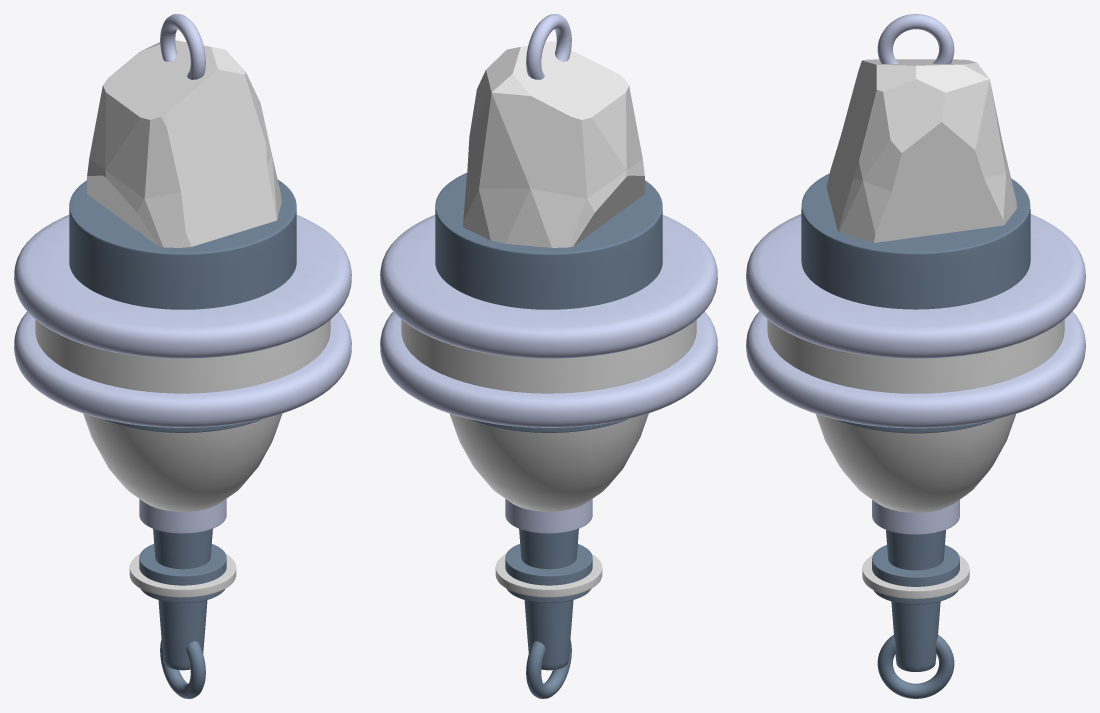
The model's file is Float.fbx.
3 views of the same model, side by side, from view 1: azimuth 30°, elevation 25°; view 2: azimuth 150°, elevation 25°; view 3: azimuth 270°, elevation 25° (orthographic).
Parts seen in each view (by area): view 1: Icosphere, Cylinder.003, Cylinder.006, Cylinder.004, Sphere, Cylinder, Cylinder.005, Cylinder.009, Cylinder.007, Cylinder.010, Torus.003, Torus.002 (+1 smaller); view 2: Icosphere, Cylinder.003, Cylinder.006, Cylinder.004, Sphere, Cylinder, Cylinder.005, Cylinder.009, Cylinder.007, Cylinder.010, Torus.003, Torus.002 (+1 smaller); view 3: Icosphere, Cylinder.003, Cylinder.006, Cylinder.004, Sphere, Cylinder, Cylinder.005, Cylinder.009, Torus.002, Cylinder.007, Torus.003, Cylinder.010 (+1 smaller).
Part boxes in pixels (x1,y1,x2,y2): Icosphere: [87, 40, 281, 247]; Cylinder.003: [14, 215, 351, 358]; Cylinder.006: [69, 179, 296, 309]; Cylinder.004: [14, 311, 351, 427]; Sphere: [83, 413, 282, 511]; Cylinder: [35, 319, 330, 393]; Cylinder.005: [153, 529, 212, 670]; Cylinder.009: [139, 544, 226, 602]; Cylinder.007: [139, 499, 226, 533]; Cylinder.010: [129, 554, 236, 597]; Torus.003: [160, 14, 205, 79]; Torus.002: [160, 639, 205, 698]; Icosphere: [463, 41, 644, 247]; Cylinder.003: [380, 215, 717, 358]; Cylinder.006: [435, 173, 662, 309]; Cylinder.004: [380, 311, 717, 427]; Sphere: [449, 413, 648, 511]; Cylinder: [401, 319, 696, 393]; Cylinder.005: [519, 529, 578, 670]; Cylinder.009: [505, 544, 592, 602]; Cylinder.007: [505, 499, 592, 533]; Cylinder.010: [495, 554, 602, 597]; Torus.003: [526, 14, 571, 79]; Torus.002: [526, 639, 571, 698]; Icosphere: [826, 59, 1016, 242]; Cylinder.003: [746, 214, 1085, 358]; Cylinder.006: [801, 173, 1030, 309]; Cylinder.004: [746, 311, 1085, 428]; Sphere: [816, 414, 1015, 512]; Cylinder: [767, 319, 1064, 393]; Cylinder.005: [886, 530, 945, 671]; Cylinder.009: [872, 545, 959, 604]; Torus.002: [877, 634, 954, 698]; Cylinder.007: [872, 500, 959, 534]; Torus.003: [877, 14, 954, 63]; Cylinder.010: [862, 555, 969, 598].
Size of the model in its own units: 130 by 288 by 130.
